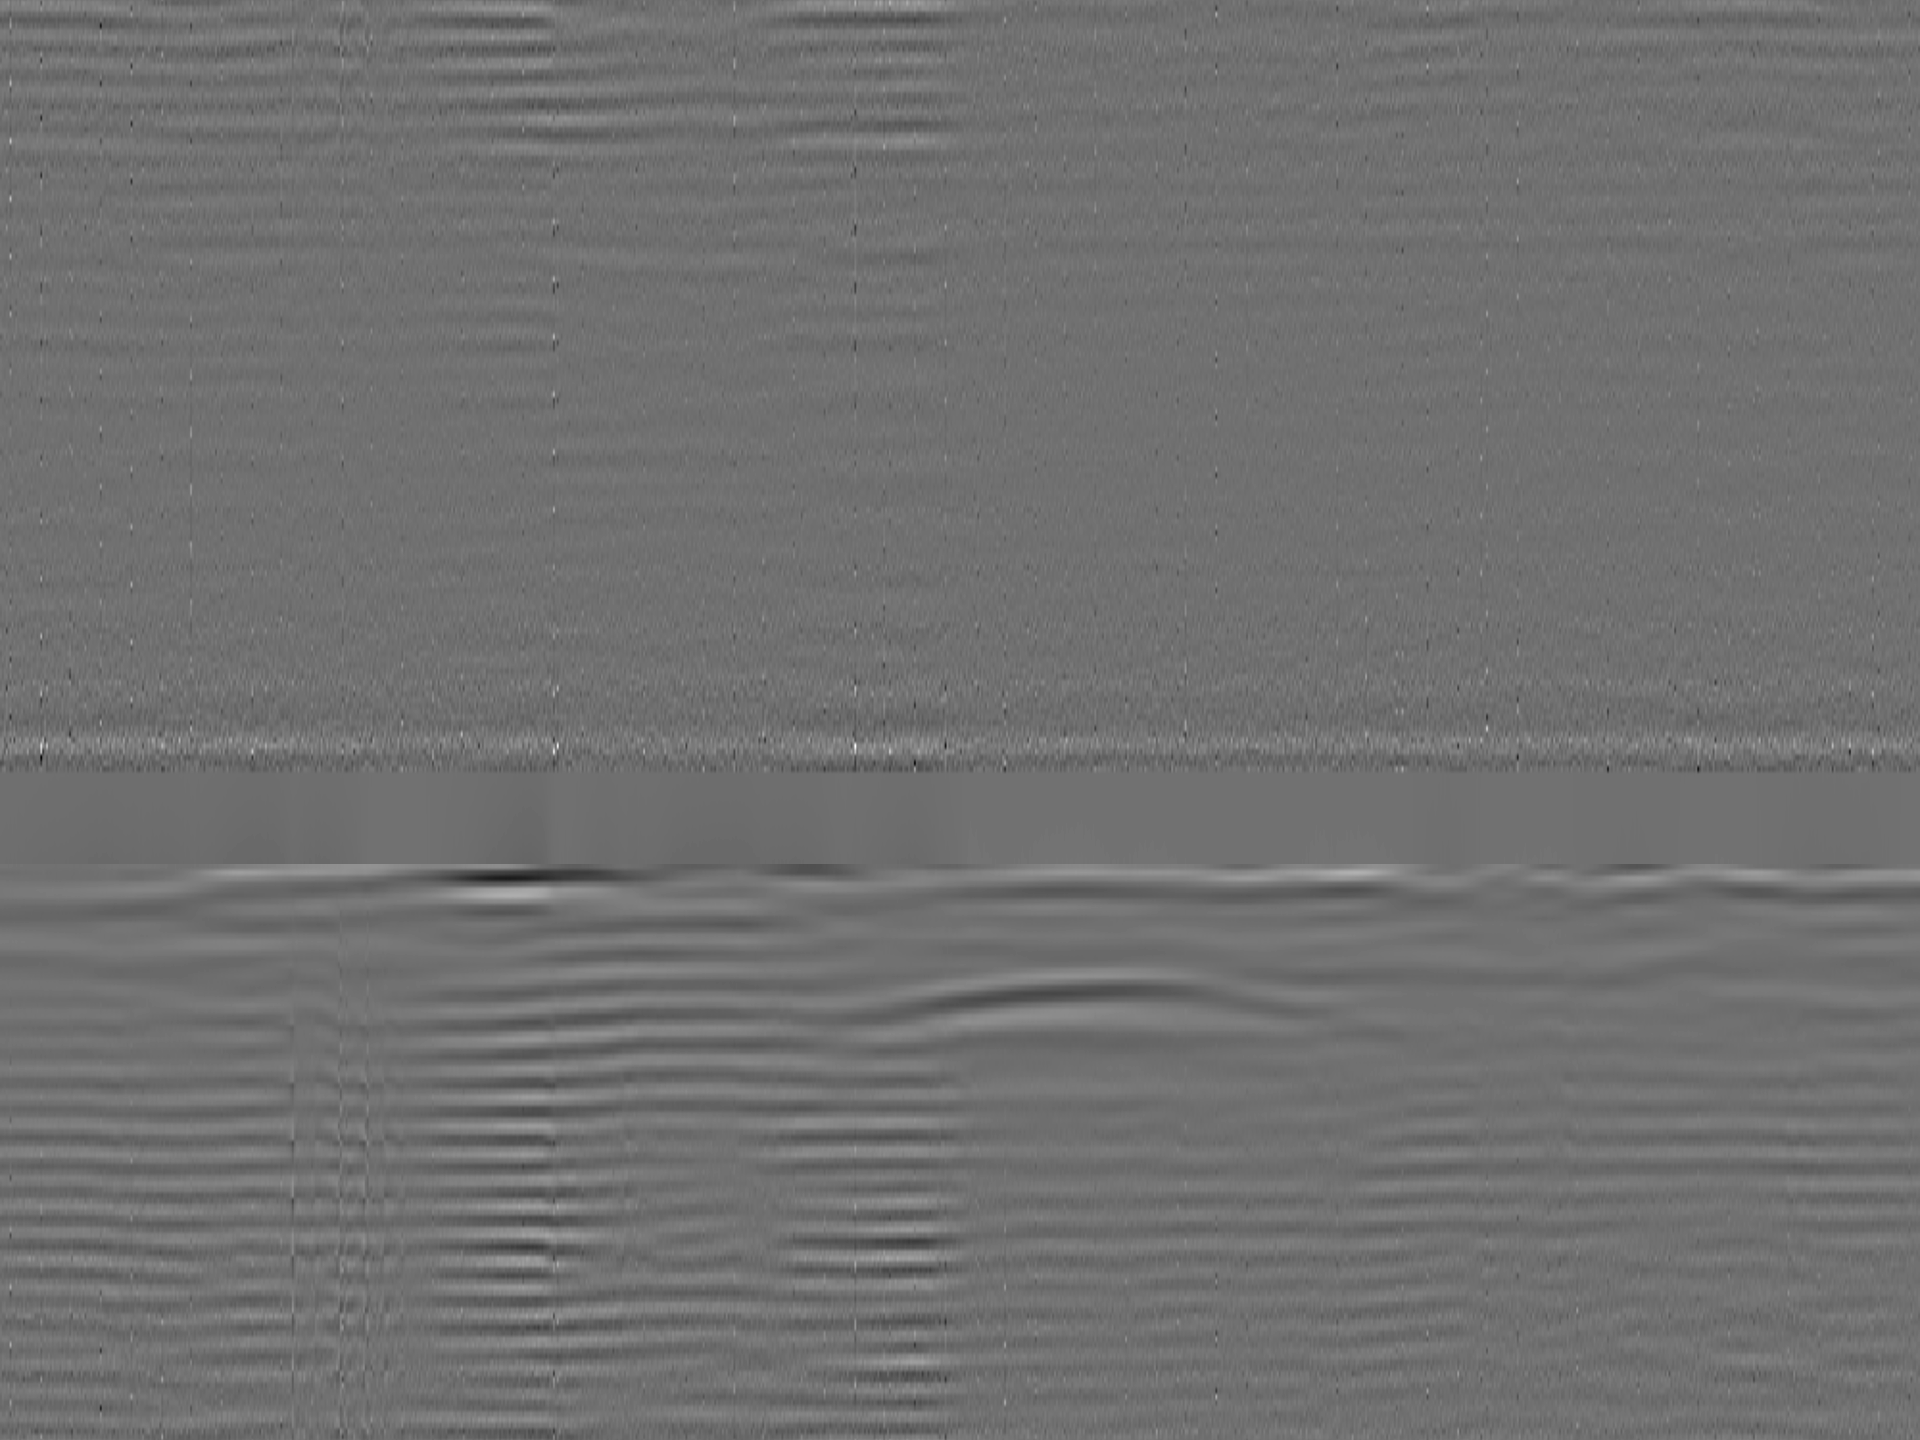Tunnel: (828, 965, 1326, 1039)
